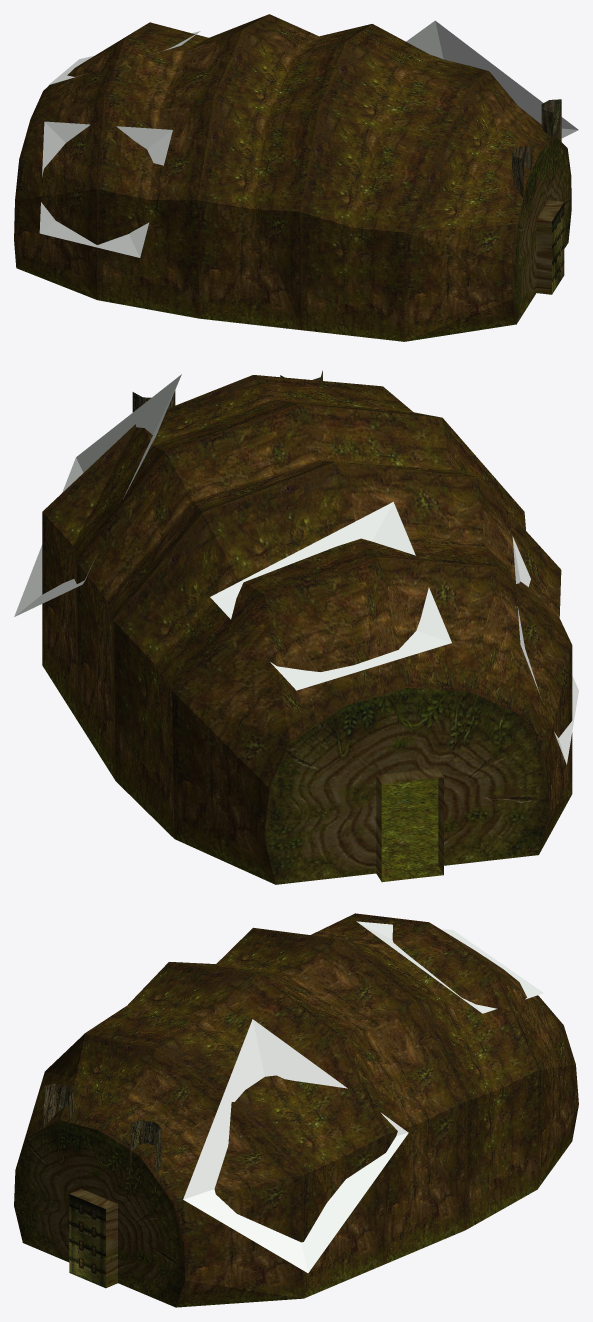
The model's file is map.obj.
3 renders of one model, top to bottom at view 1: azimuth 30°, elevation 25°; view 2: azimuth 150°, elevation 25°; view 3: azimuth 270°, elevation 25°, orthographic. The views are drawn at different scales.
Parts seen in each view (by area): view 1: inside_the_deku_tree_01.dmx, inside_the_deku_tree_01.dmx.001, inside_the_deku_tree_01.dmx.002, inside_the_deku_tree_01.dmx.004, DOOR1; view 2: inside_the_deku_tree_01.dmx, inside_the_deku_tree_01.dmx.002, inside_the_deku_tree_01.dmx.001, inside_the_deku_tree_01.dmx.005; view 3: inside_the_deku_tree_01.dmx, inside_the_deku_tree_01.dmx.002, inside_the_deku_tree_01.dmx.001, DOOR1, inside_the_deku_tree_01.dmx.004.
Boxes of the visible parts, x1=… form: inside_the_deku_tree_01.dmx: x1=14, y1=14, x2=555, y2=341; inside_the_deku_tree_01.dmx.001: x1=39, y1=20, x2=578, y2=257; inside_the_deku_tree_01.dmx.002: x1=513, y1=136, x2=571, y2=323; inside_the_deku_tree_01.dmx.004: x1=512, y1=99, x2=561, y2=210; DOOR1: x1=552, y1=202, x2=564, y2=294; inside_the_deku_tree_01.dmx: x1=42, y1=375, x2=572, y2=884; inside_the_deku_tree_01.dmx.002: x1=264, y1=688, x2=550, y2=884; inside_the_deku_tree_01.dmx.001: x1=14, y1=374, x2=578, y2=764; inside_the_deku_tree_01.dmx.005: x1=381, y1=778, x2=443, y2=882; inside_the_deku_tree_01.dmx: x1=17, y1=913, x2=578, y2=1307; inside_the_deku_tree_01.dmx.002: x1=14, y1=1120, x2=185, y2=1307; inside_the_deku_tree_01.dmx.001: x1=183, y1=921, x2=543, y2=1272; DOOR1: x1=69, y1=1194, x2=105, y2=1288; inside_the_deku_tree_01.dmx.004: x1=43, y1=1083, x2=161, y2=1199.
Bounding box in the file's own units: 14.57 × 6.74 × 14.38.
